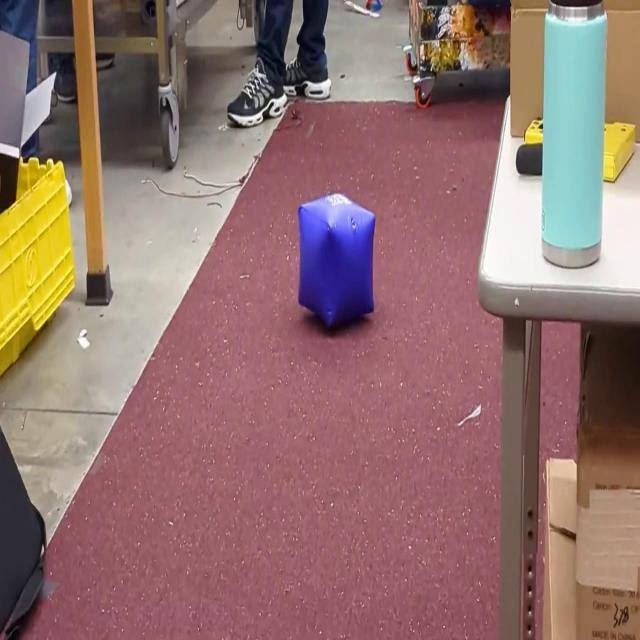frc_cube: (296, 191, 376, 333)
